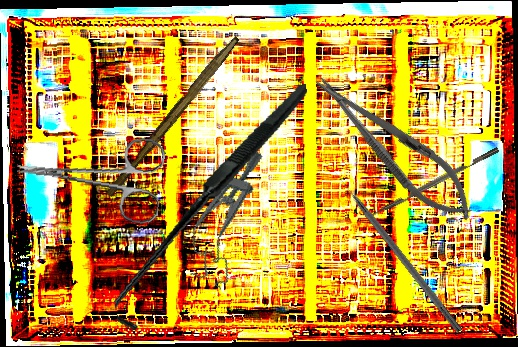Chopper: (365, 147, 503, 225)
Hook Surgical: (85, 83, 340, 333), (331, 167, 464, 335)
Iris Scissors: (12, 123, 167, 226)
Needle Holder: (301, 59, 489, 235)
Scalpel Handle: (104, 31, 241, 201)
Speculum: (177, 140, 273, 292)
